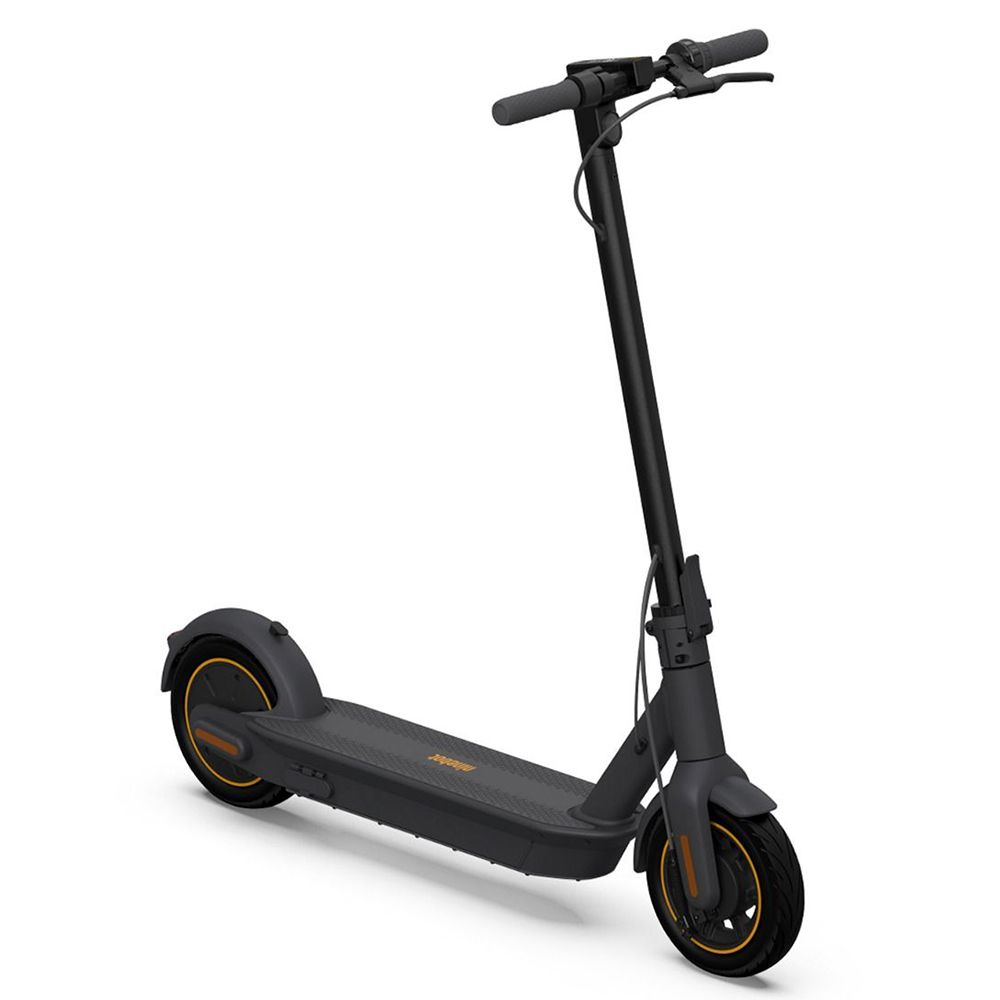scooter: (162, 29, 812, 981)
